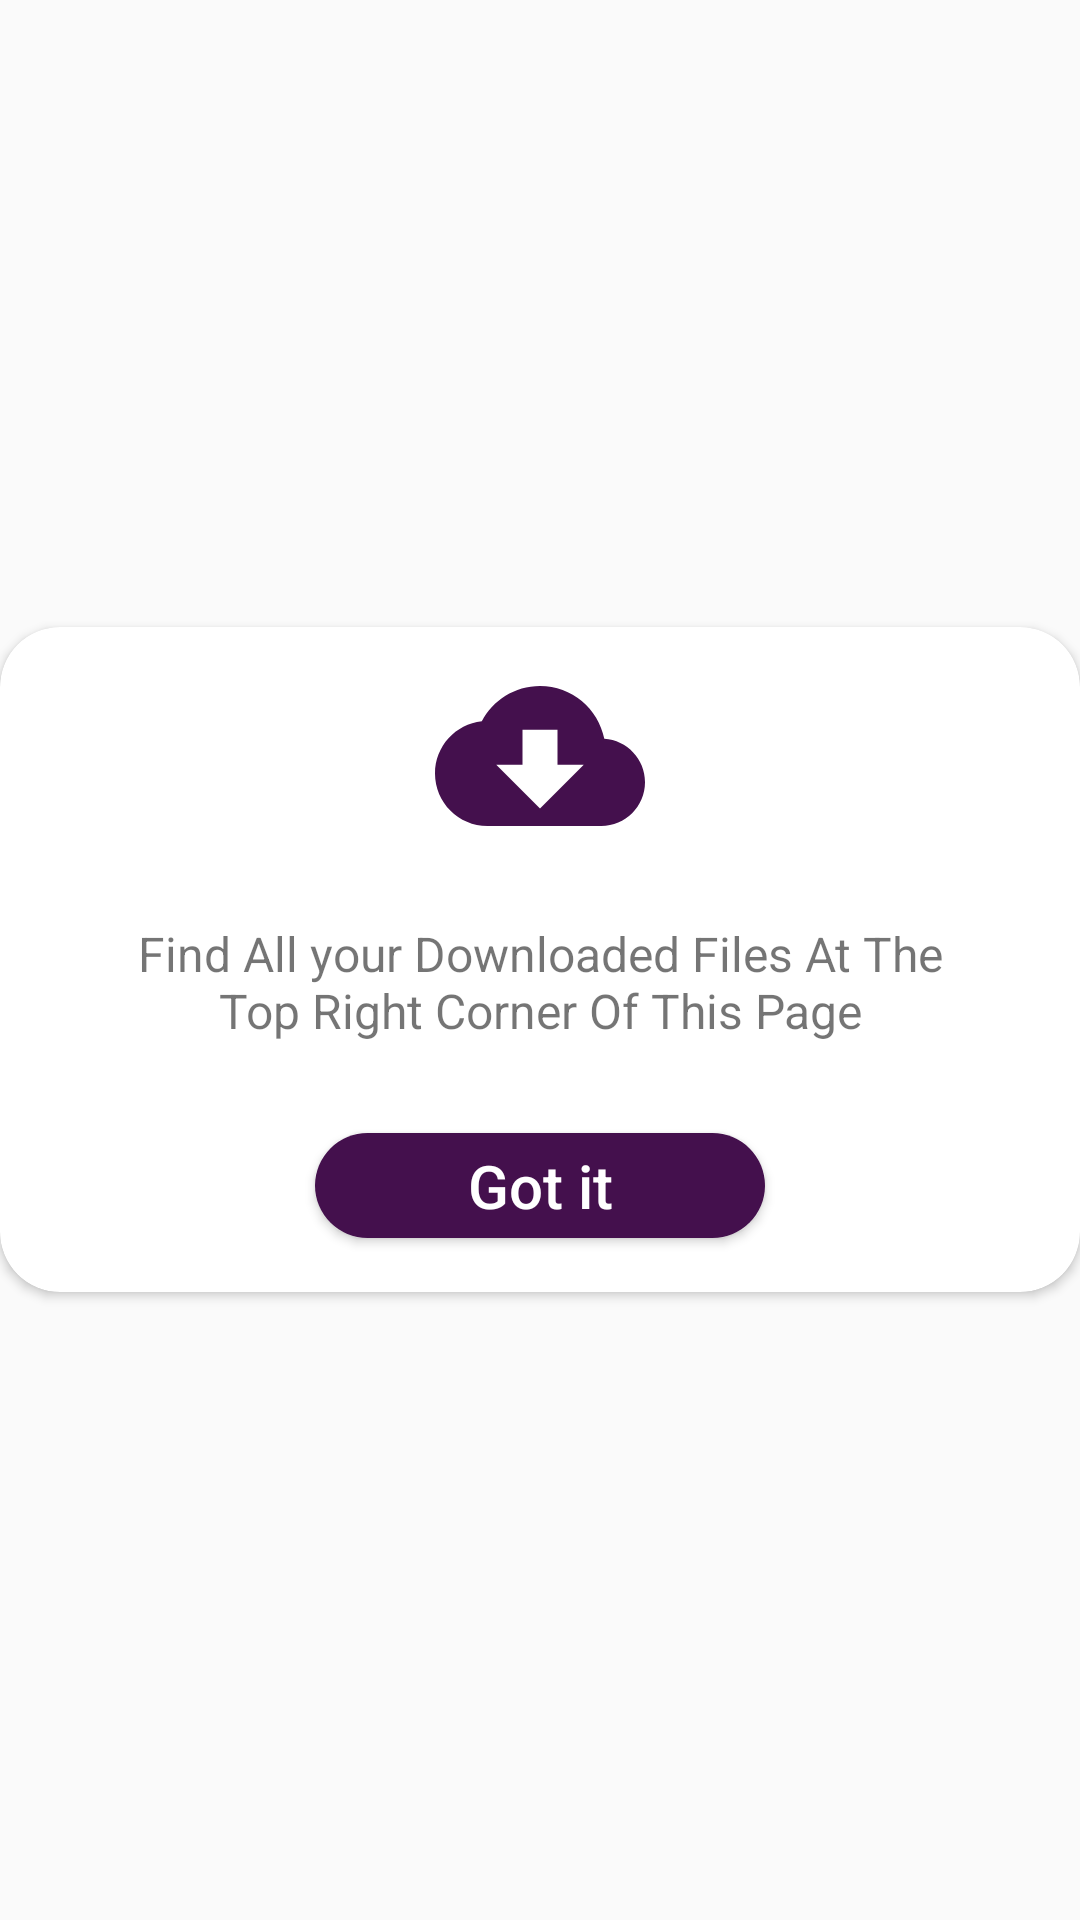

Named icons in this screenshot (1080px×1920px) and their bounding boxes, (x1, y1, x2, y2):
cloud download: (435, 686, 645, 826)
